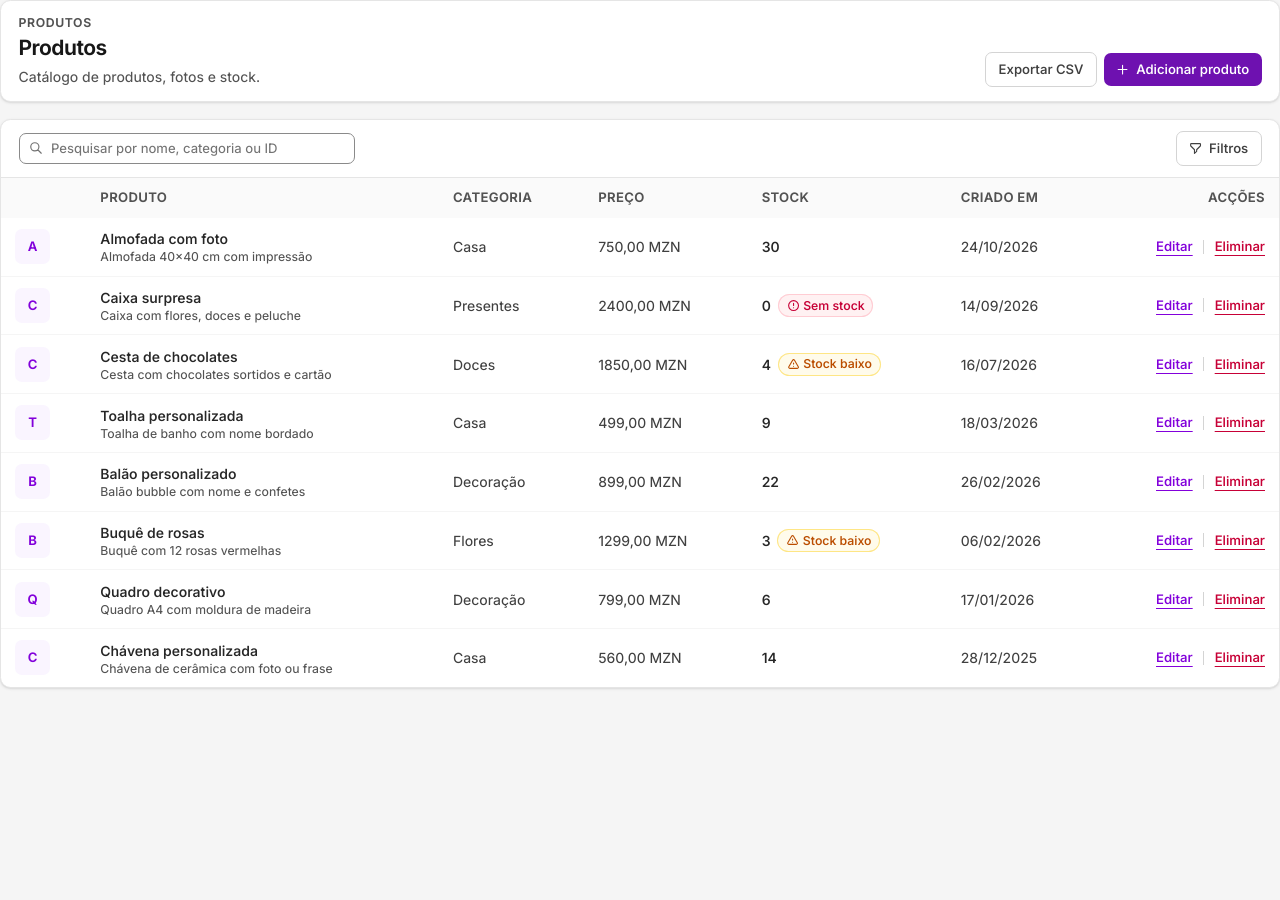
Test case: produtos › lista, filtra por stock e regista um produto novo
Earlier steps of the test are not shown.
Click the button "Adicionar produto" at (1183, 69), box left=1104, top=52, right=1262, bottom=86
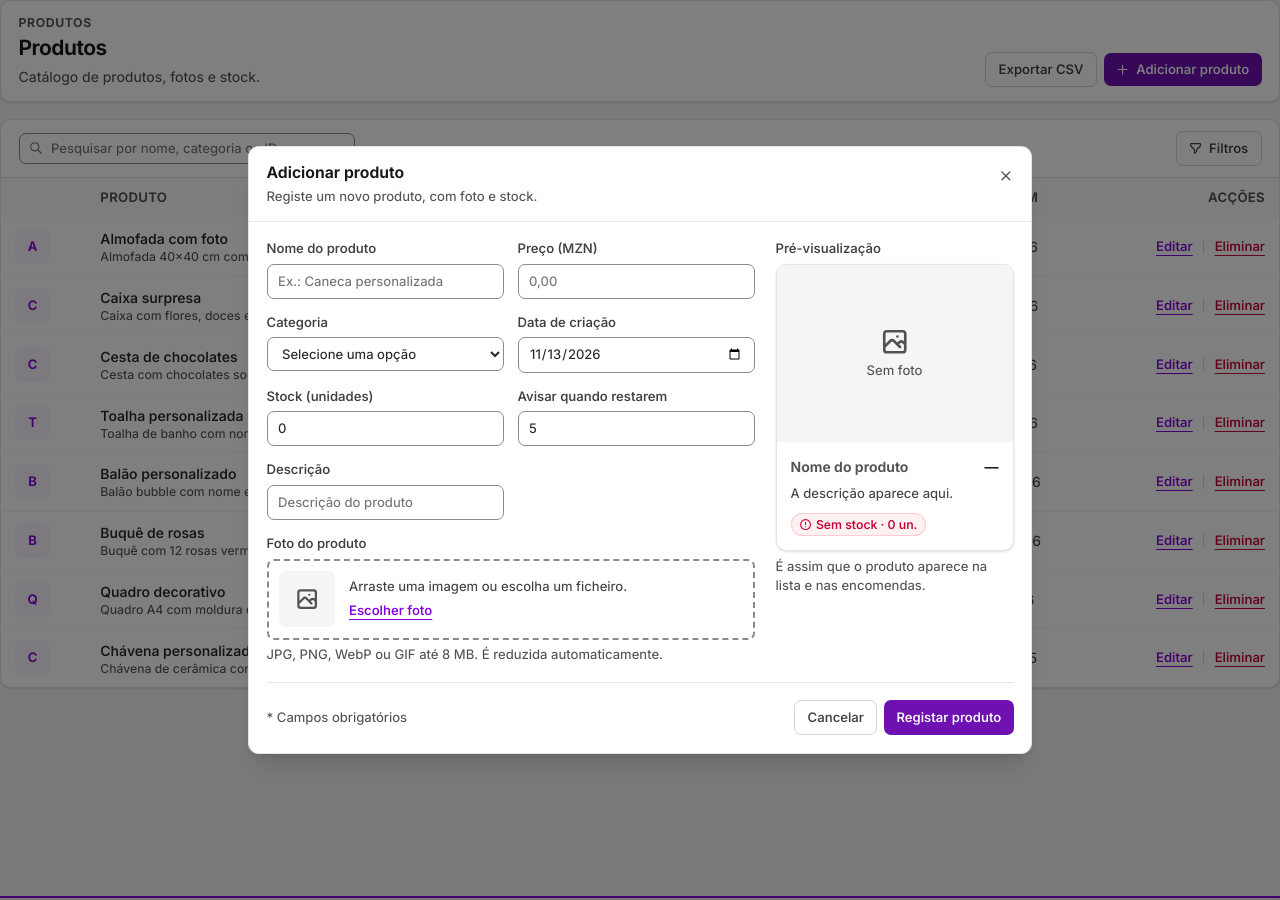
Type "Vela perfumada" into the field labelled "Nome do produto" at (385, 281), box left=266, top=264, right=504, bottom=299
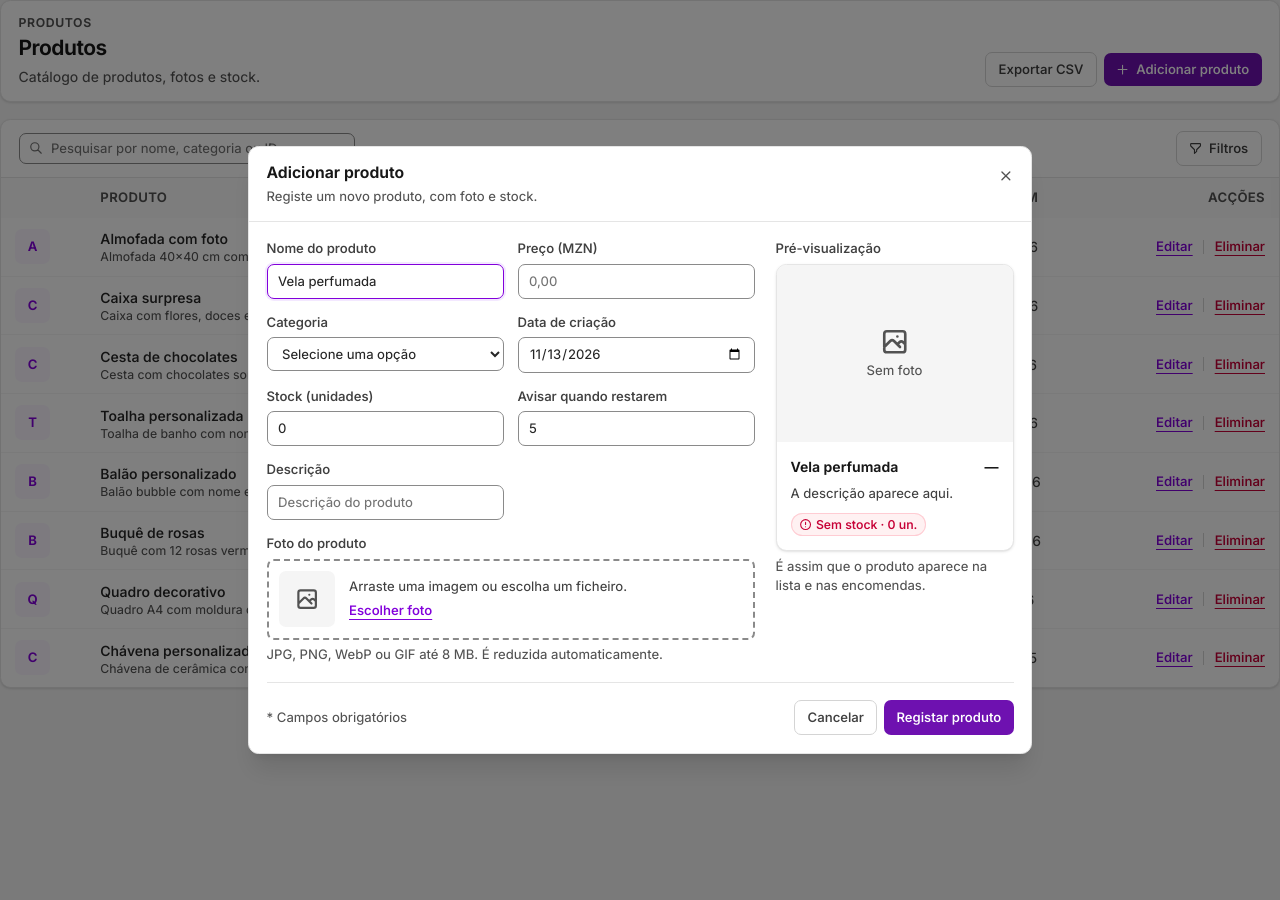
Type "320" into the number field labelled "Preço (MZN)" at (636, 281), box left=518, top=264, right=754, bottom=299
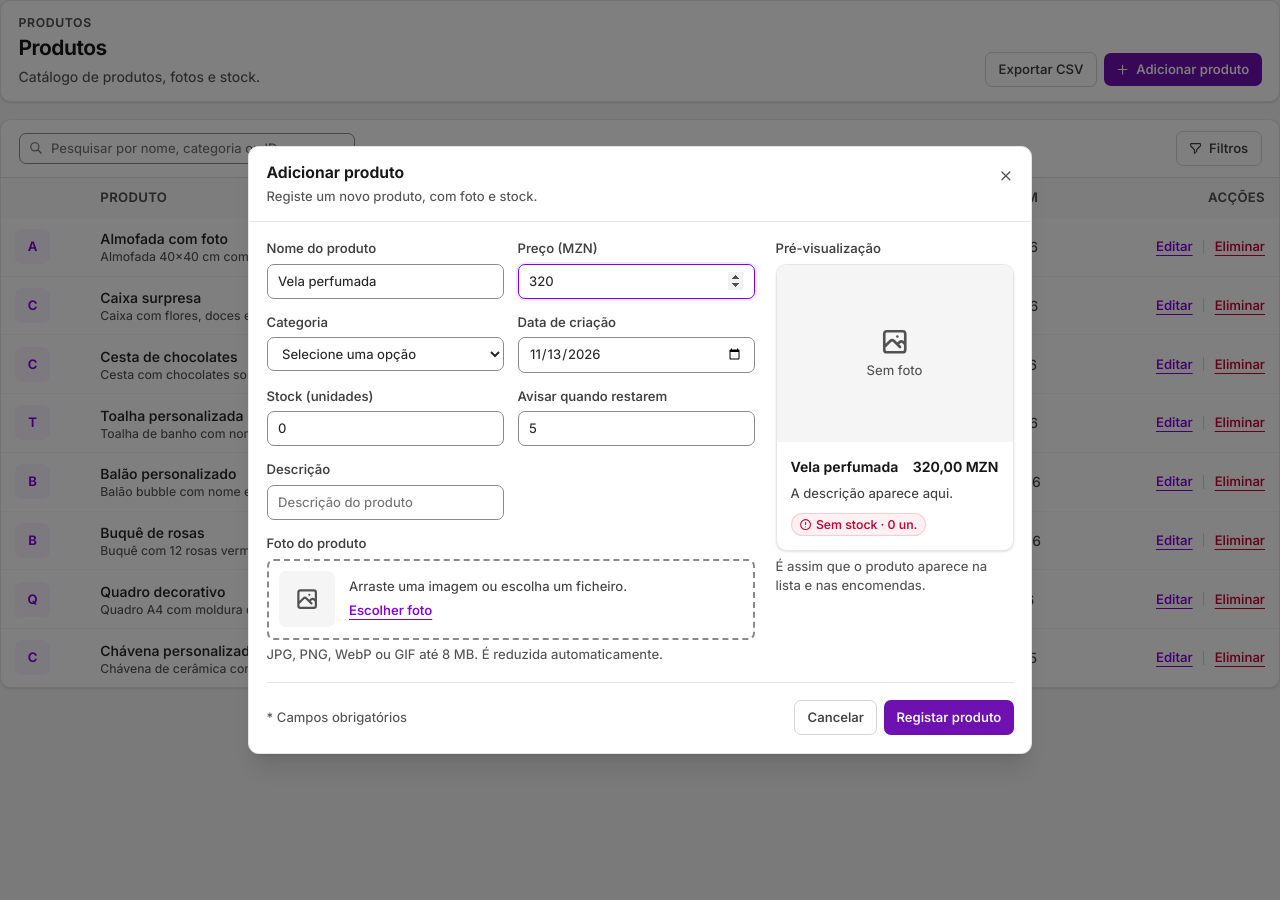
Select "Casa" in the dropdown labelled "Categoria" at (385, 354), box left=266, top=337, right=504, bottom=371
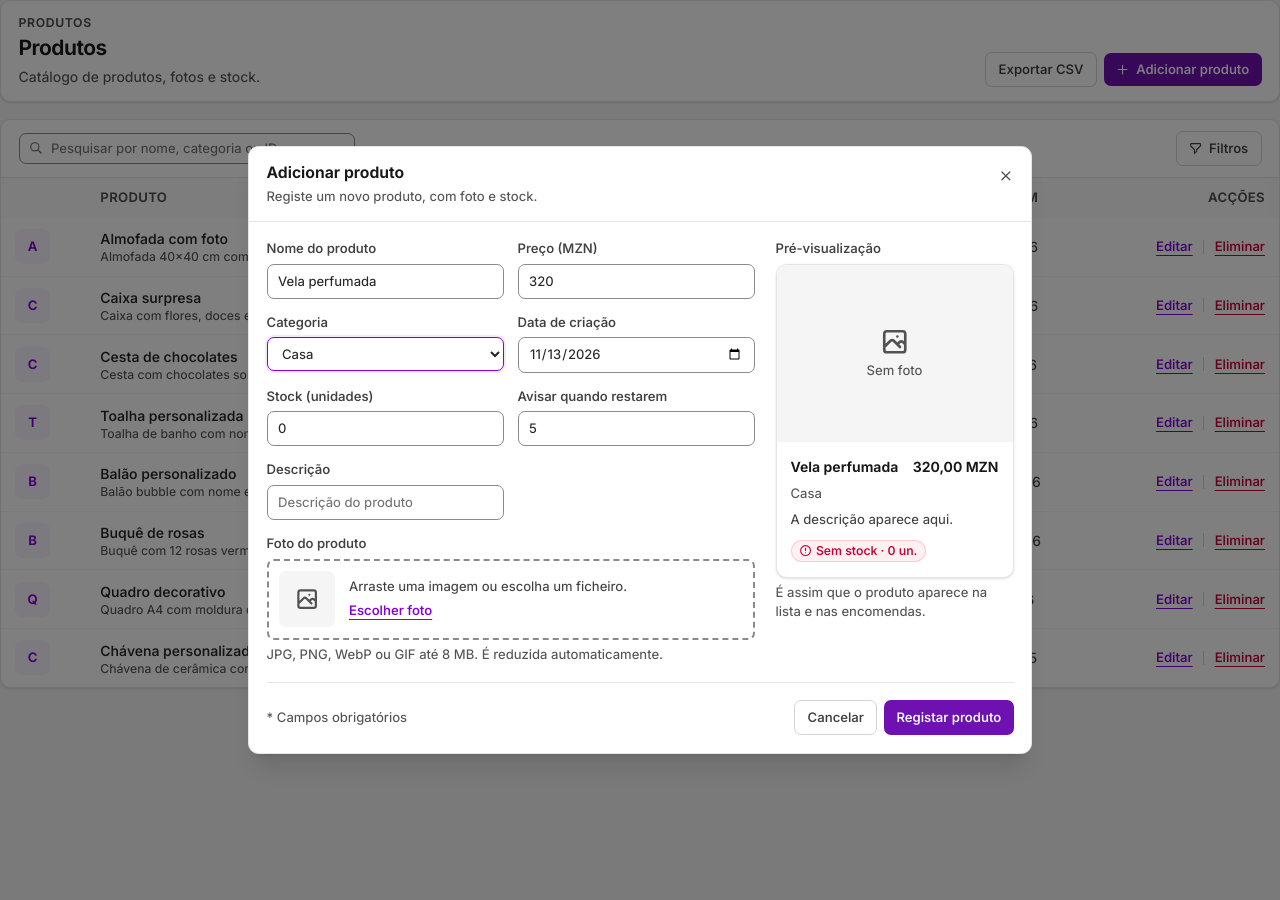
Type "Vela de soja" into the field labelled "Descrição" at (385, 503), box left=266, top=485, right=504, bottom=520
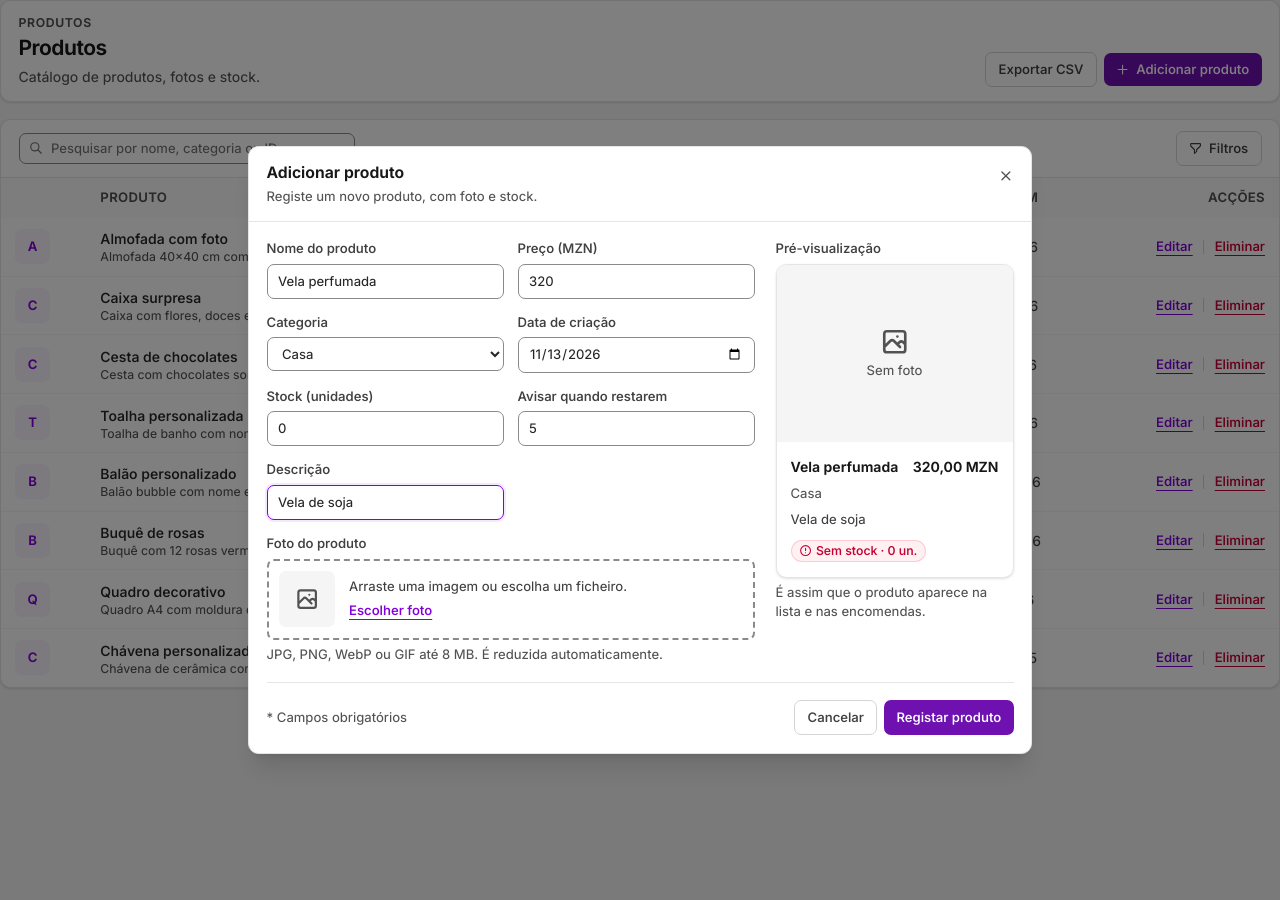
Click the button "Registar produto" at (949, 718), box left=884, top=700, right=1014, bottom=735
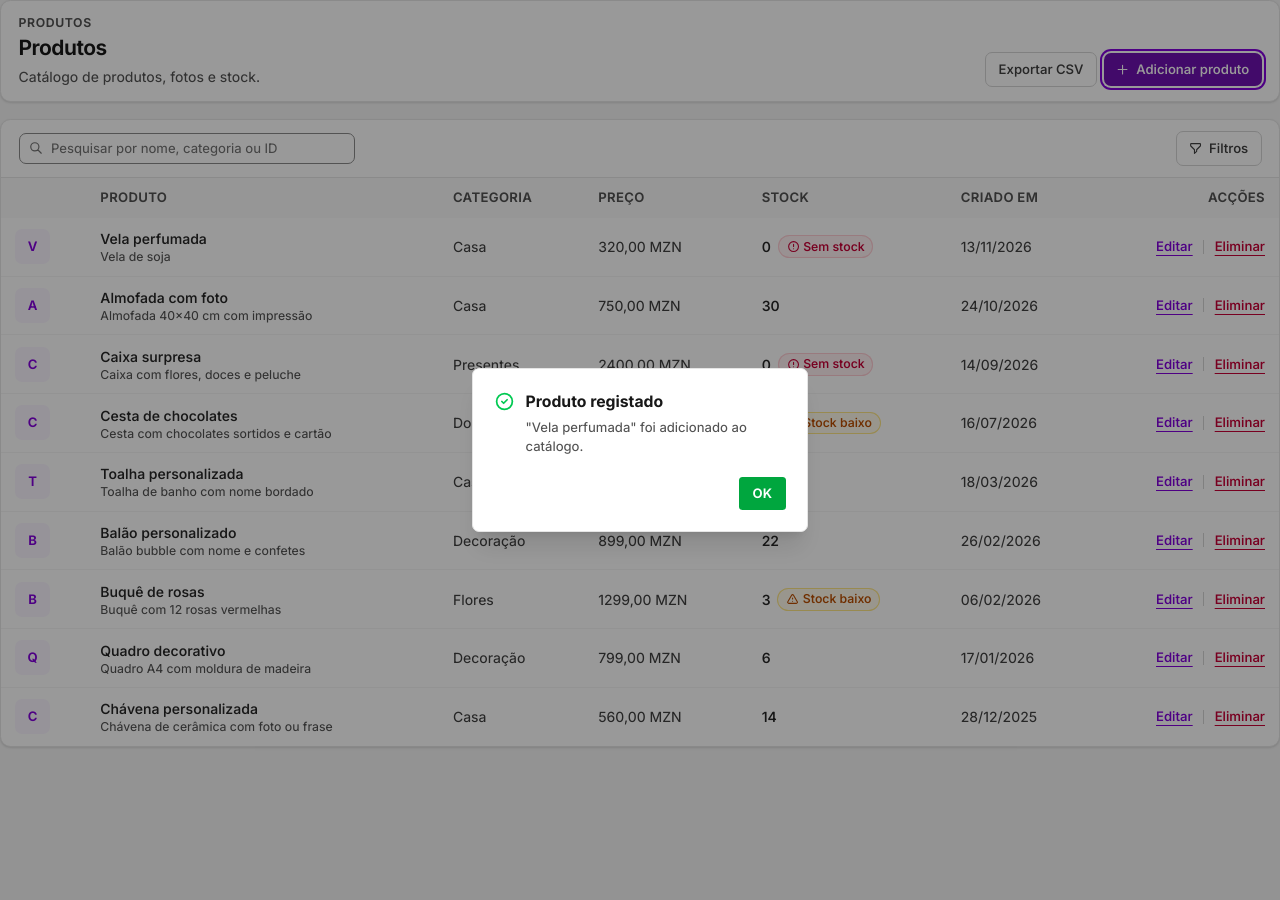
Now the heading "Produto registado" is shown, box left=526, top=392, right=663, bottom=411
Now the text "Vela perfumada" is shown, box left=100, top=228, right=207, bottom=249
